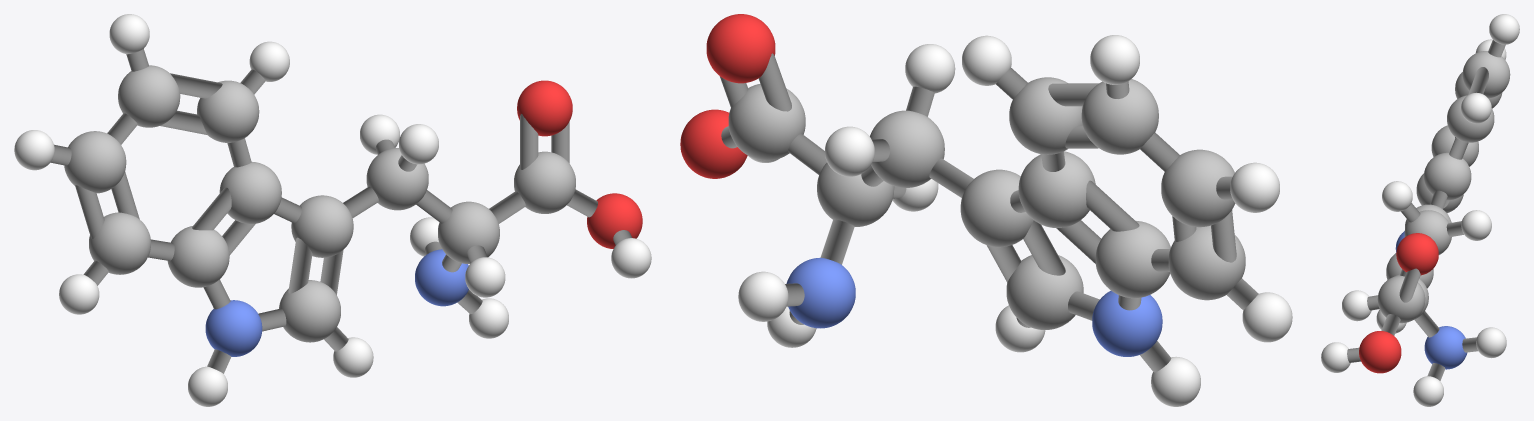
The model's file is tryptophan.glb.
3 renders of one model, left to right at view 1: azimuth 30°, elevation 25°; view 2: azimuth 150°, elevation 25°; view 3: azimuth 270°, elevation 25°, orthographic. The views are drawn at different scales.
Visible parts, largest first — view 1: Object_2, Object_8, Object_6, Object_4, Object_5, Object_3, Object_7; view 2: Object_2, Object_8, Object_6, Object_4, Object_5, Object_3, Object_7; view 3: Object_2, Object_6, Object_8, Object_5, Object_7, Object_4, Object_3.
Part boxes in pixels (x1=…): Object_2: x1=64, y1=65, x2=575, y2=342; Object_8: x1=50, y1=48, x2=631, y2=373; Object_6: x1=14, y1=14, x2=508, y2=406; Object_4: x1=205, y1=249, x2=468, y2=356; Object_5: x1=517, y1=80, x2=642, y2=248; Object_3: x1=366, y1=148, x2=428, y2=210; Object_7: x1=410, y1=217, x2=651, y2=278; Object_2: x1=728, y1=77, x2=1245, y2=329; Object_8: x1=719, y1=53, x2=1258, y2=372; Object_6: x1=767, y1=35, x2=1292, y2=406; Object_4: x1=786, y1=257, x2=1162, y2=356; Object_5: x1=680, y1=14, x2=775, y2=178; Object_3: x1=870, y1=110, x2=944, y2=187; Object_7: x1=738, y1=155, x2=788, y2=321; Object_2: x1=1377, y1=51, x2=1510, y2=323; Object_6: x1=1342, y1=14, x2=1519, y2=406; Object_8: x1=1347, y1=40, x2=1505, y2=380; Object_5: x1=1359, y1=233, x2=1438, y2=373; Object_7: x1=1321, y1=327, x2=1506, y2=372; Object_4: x1=1395, y1=231, x2=1467, y2=369; Object_3: x1=1404, y1=210, x2=1451, y2=254.
Size of the model in its own units: 10.36 by 6.49 by 4.25.
